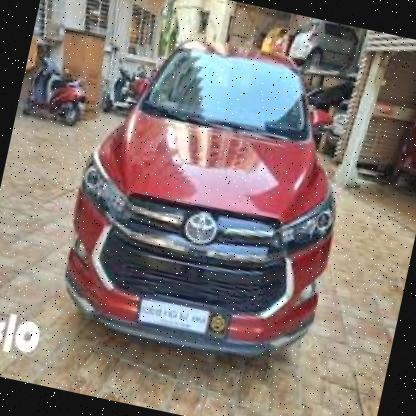car: (44, 13, 377, 379)
